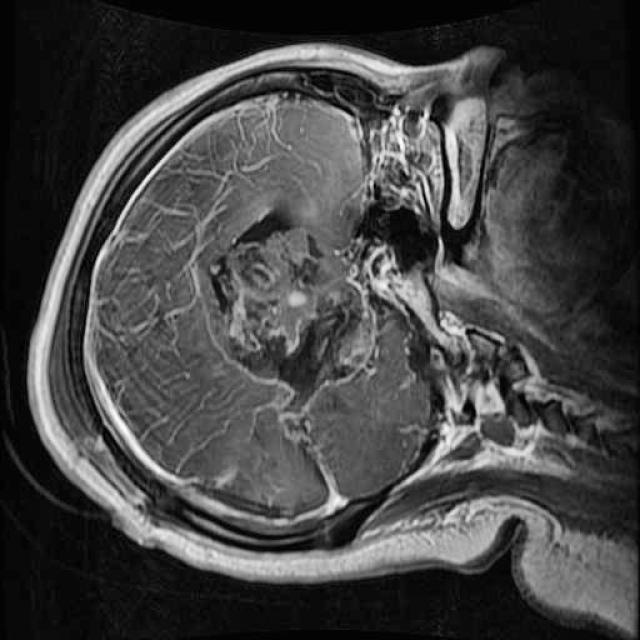Tumor: (202, 204, 388, 390)
